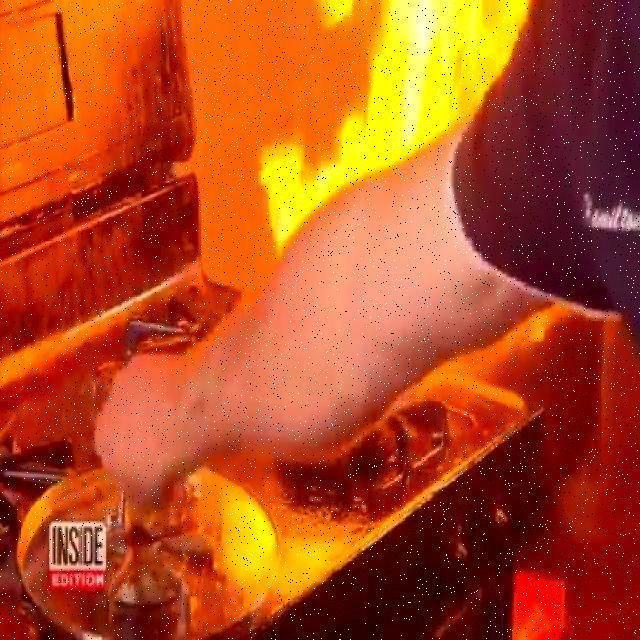fire: (261, 0, 528, 229), (163, 434, 333, 628)
